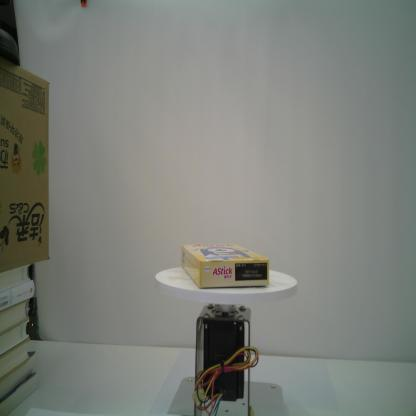Dessert: (180, 241, 272, 291)
